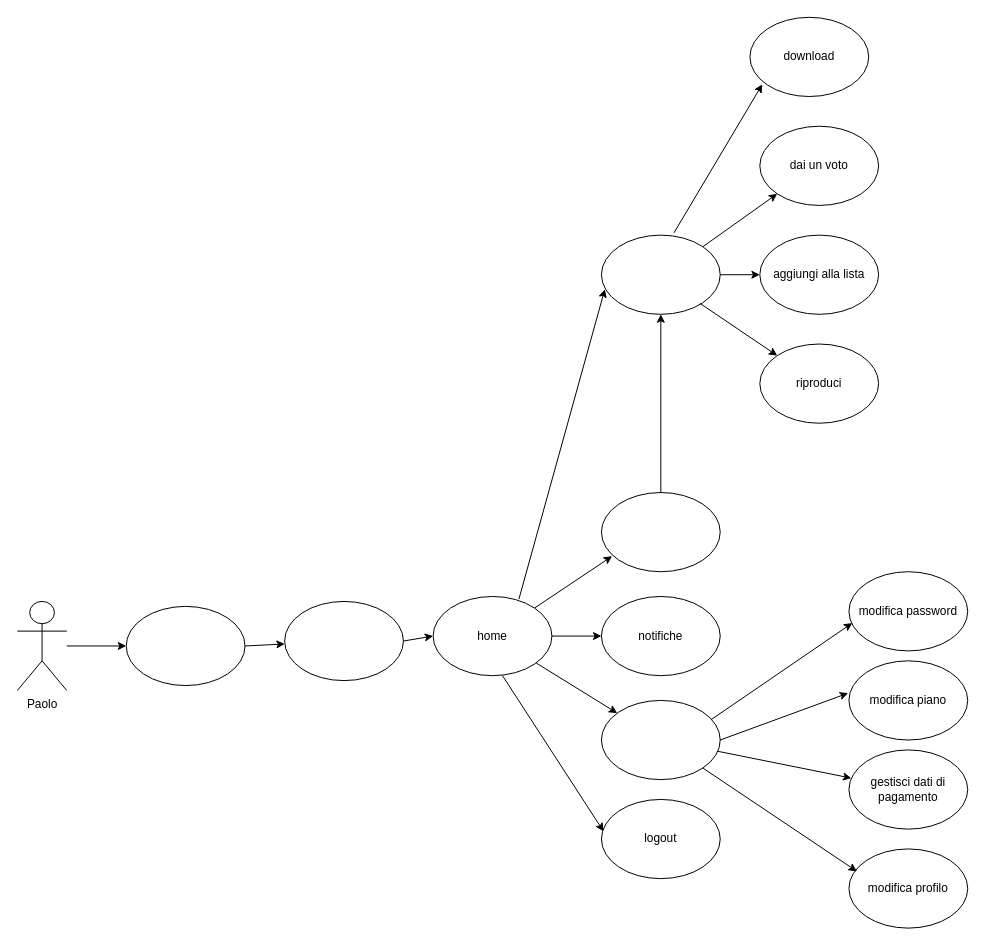
The diagram is 985 pixels wide and 945 high, and some of its shapes have lost their labels. Each missing label, with the centre of its shape:
"account" belongs at point (660, 739).
"login" belongs at point (185, 645).
"ricerca contenuto" belongs at point (660, 532).
"scelta contenuto" belongs at point (660, 274).
"scelta profilo" belongs at point (343, 640).
